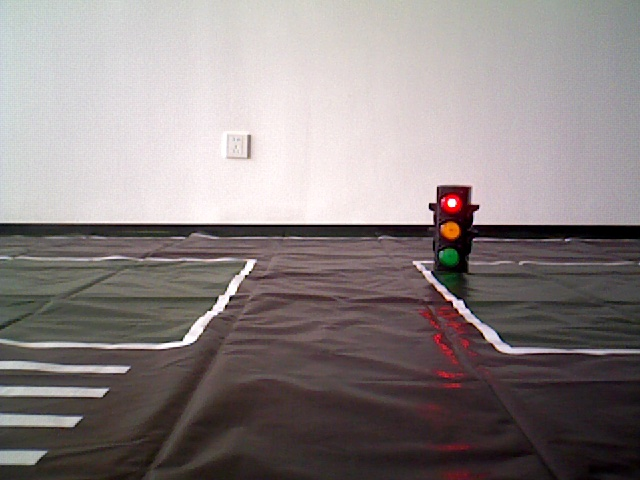red: (434, 188, 466, 273)
